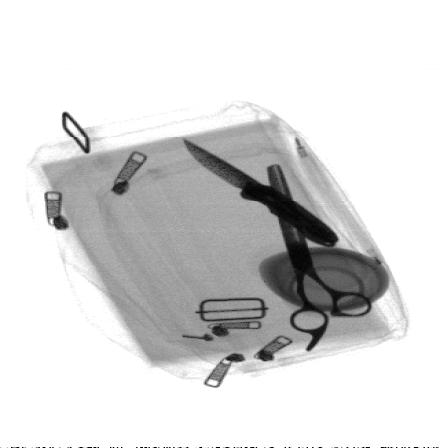Knife: (182, 138, 341, 247)
Scissors: (264, 164, 374, 353)
